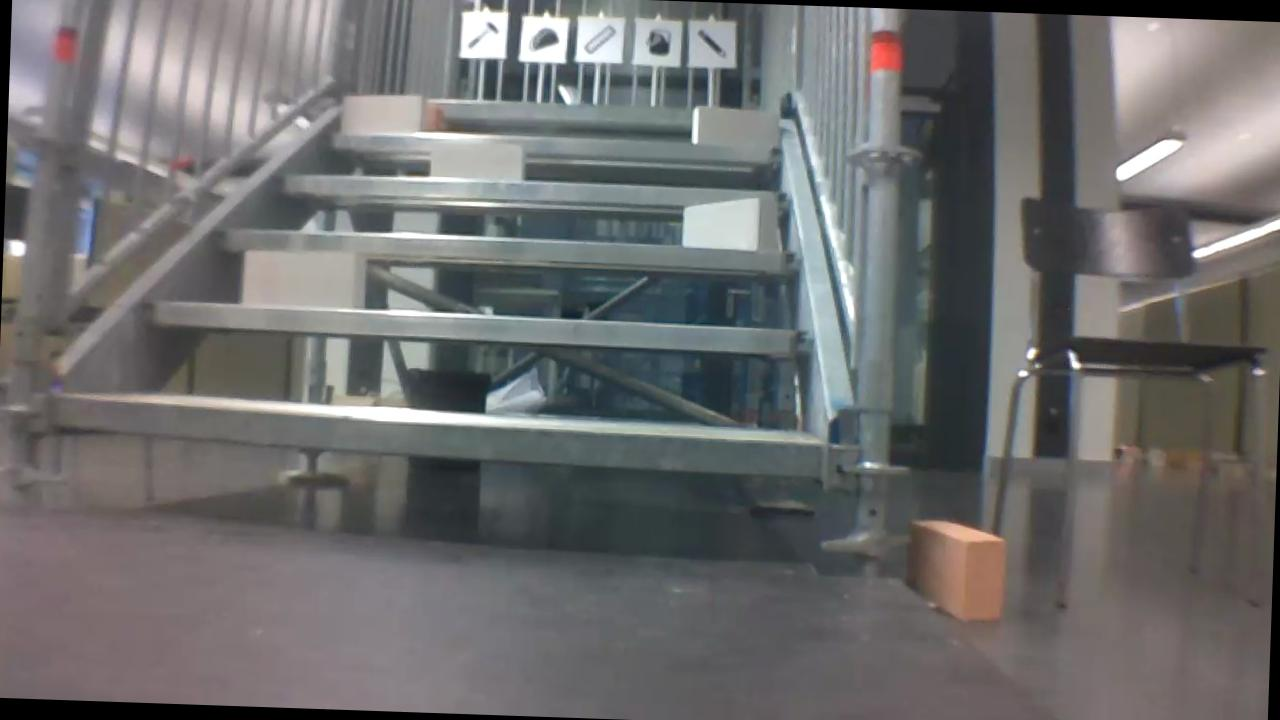brick: (245, 248, 366, 307), (680, 194, 776, 249), (431, 140, 524, 180), (689, 105, 777, 144), (341, 94, 425, 132), (426, 109, 443, 128)
bucket: (635, 24, 676, 59)
edge: (56, 397, 821, 476), (148, 300, 816, 354), (218, 226, 799, 271), (272, 172, 790, 211), (332, 91, 778, 127), (324, 130, 785, 164)
hammer: (460, 16, 502, 52)
pencil: (693, 27, 736, 63)
ruler: (580, 21, 618, 56)
steps: (48, 75, 837, 487)
taco: (526, 23, 561, 56)
